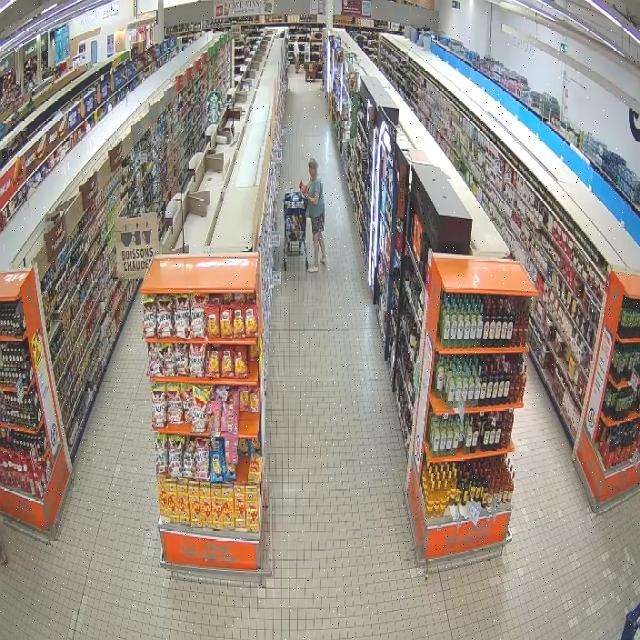article: (298, 181, 306, 193)
bags: (306, 204, 310, 217)
hands: (303, 190, 308, 197)
person: (304, 158, 326, 273)
